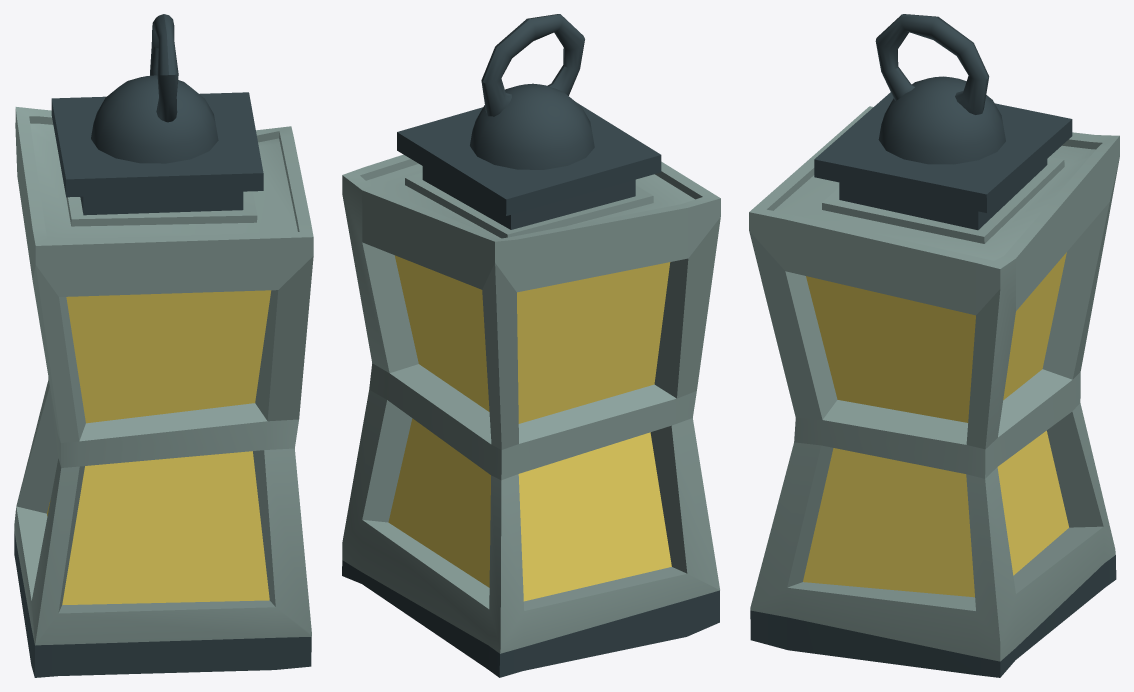
File: Lampion.fbx
3 renders of one model, left to right at view 1: azimuth 30°, elevation 25°; view 2: azimuth 150°, elevation 25°; view 3: azimuth 270°, elevation 25°, orthographic. The views are drawn at different scales.
Visible parts, largest first — view 1: Lampion; view 2: Lampion; view 3: Lampion.
Boxes of the visible parts, x1,y1,x2,y2 form: Lampion: (14,14,313,677); Lampion: (342,14,720,677); Lampion: (749,14,1119,677).
Bounding box in the file's own units: 28.15 × 50.66 × 28.18.
